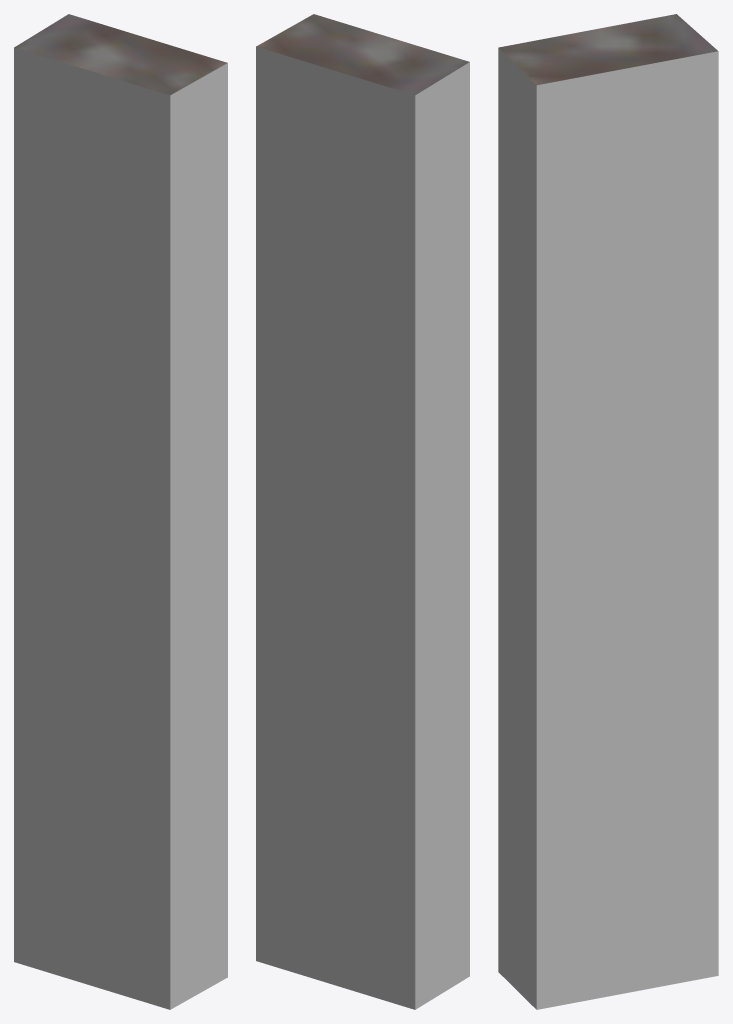
File: DEBW_0010007THW1.gltf
3 renders of one model, left to right at view 1: azimuth 30°, elevation 25°; view 2: azimuth 210°, elevation 25°; view 3: azimuth 270°, elevation 25°, orthographic.
Parts seen in each view (by area): view 1: Z_UP; view 2: Z_UP; view 3: Z_UP.
Boxes of the visible parts, x1,y1,x2,y2 form: Z_UP: [14, 14, 227, 1009]; Z_UP: [256, 14, 469, 1009]; Z_UP: [498, 14, 718, 1009].
Bounding box in the file's own units: 2.34 × 14.14 × 3.05.
Materials: 2 (1 with a texture image).
